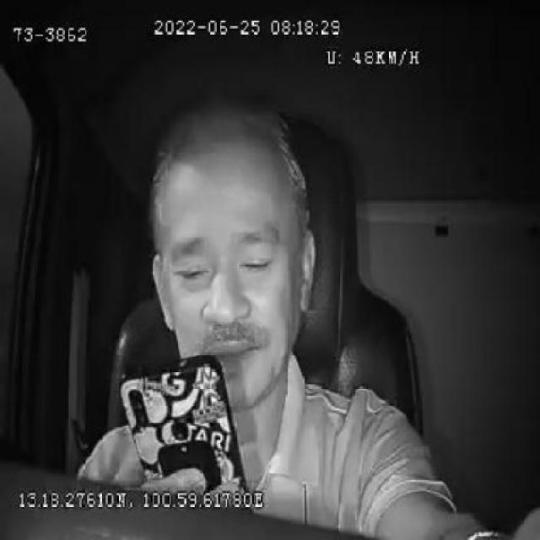phone: (119, 353, 247, 489)
